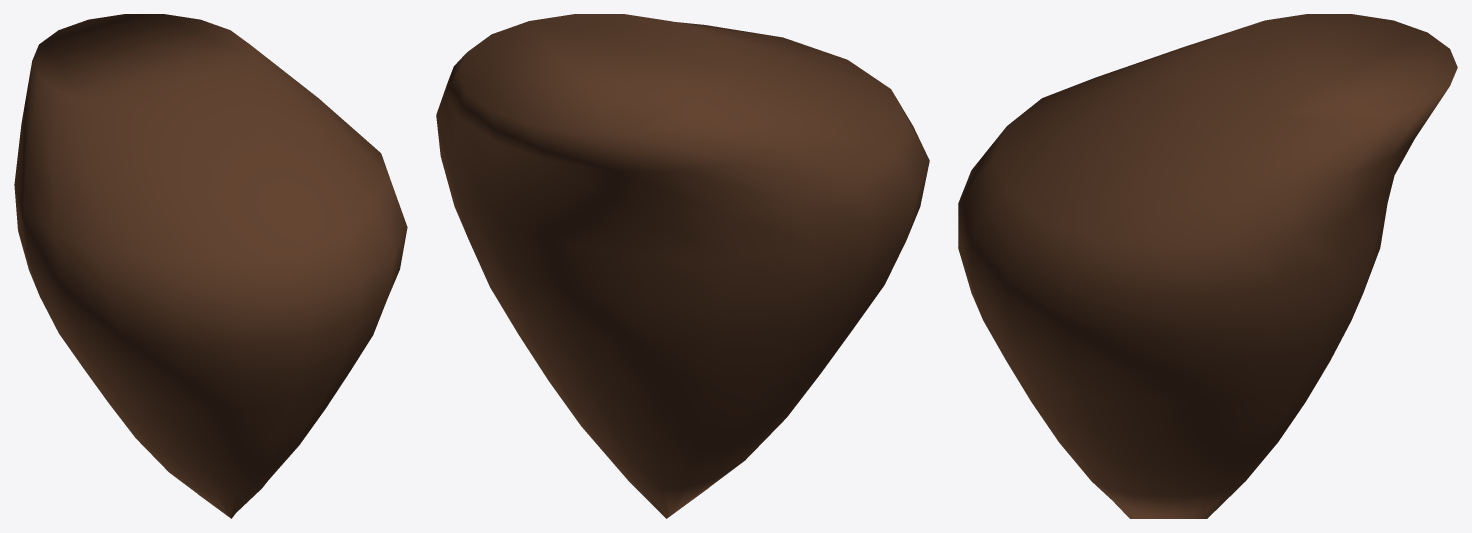
Rendered from beard_goatee.glb.
3 renders of one model, left to right at view 1: azimuth 30°, elevation 25°; view 2: azimuth 150°, elevation 25°; view 3: azimuth 270°, elevation 25°, orthographic. The views are drawn at different scales.
Visible parts, largest first — view 1: BeardGoatee; view 2: BeardGoatee; view 3: BeardGoatee.
Boxes of the visible parts, x1,y1,x2,y2 form: BeardGoatee: [14, 14, 407, 518]; BeardGoatee: [436, 14, 929, 518]; BeardGoatee: [958, 14, 1457, 518].
Size of the model in its own units: 0.1383 by 0.155 by 0.1555.
